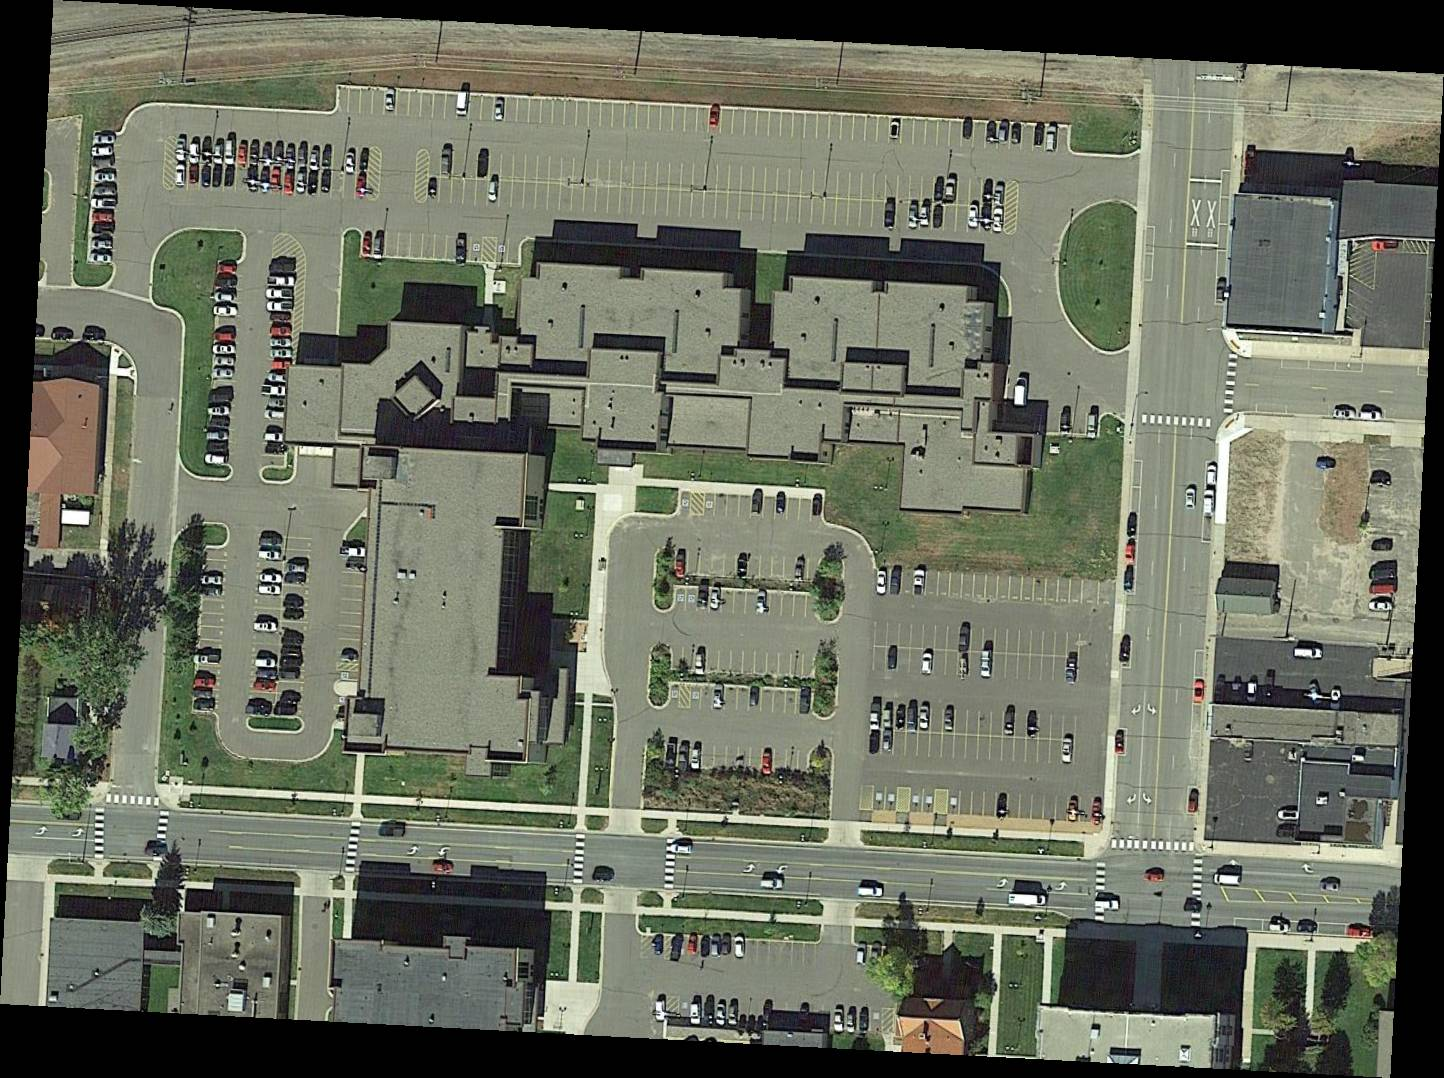large vehicle: (1008, 895, 1046, 907), (1014, 377, 1027, 407), (798, 687, 811, 715), (378, 825, 405, 838), (1295, 648, 1323, 659), (340, 546, 366, 557), (1215, 874, 1240, 885), (812, 494, 823, 517), (260, 385, 287, 395), (760, 878, 783, 889), (751, 491, 762, 514), (714, 684, 724, 709), (1087, 414, 1097, 439), (1060, 411, 1071, 433), (858, 887, 882, 897), (1095, 901, 1119, 912), (1046, 126, 1056, 152), (265, 410, 285, 421), (670, 844, 692, 854), (691, 748, 701, 769), (264, 433, 284, 443), (749, 687, 760, 705), (695, 652, 704, 674), (206, 407, 230, 414), (1248, 682, 1257, 702), (763, 753, 771, 775), (210, 394, 231, 402)
small vehicle: (980, 649, 993, 678), (913, 568, 925, 596), (958, 626, 971, 652), (1066, 658, 1077, 685), (890, 568, 902, 596), (441, 149, 452, 176), (248, 166, 259, 192), (267, 288, 293, 299), (921, 653, 933, 676), (992, 208, 1003, 233), (870, 703, 880, 730), (267, 301, 293, 311), (254, 621, 276, 632), (259, 572, 282, 583), (213, 306, 236, 317), (869, 731, 880, 754), (1127, 513, 1138, 536), (881, 729, 892, 752), (194, 699, 214, 711), (877, 570, 887, 594), (757, 589, 767, 614), (676, 553, 686, 577), (697, 584, 709, 605), (907, 708, 917, 733), (1062, 738, 1073, 763), (885, 203, 895, 228), (92, 146, 113, 157), (354, 176, 366, 197), (92, 199, 116, 209), (458, 92, 468, 115), (1369, 601, 1393, 611), (1092, 802, 1102, 825), (888, 645, 898, 669), (920, 705, 930, 729), (1123, 568, 1134, 592), (260, 168, 270, 194), (89, 253, 112, 263), (93, 239, 113, 250), (92, 224, 114, 234), (856, 944, 868, 965), (250, 143, 260, 165), (308, 172, 318, 195), (321, 170, 331, 192), (1334, 409, 1355, 420), (1125, 542, 1136, 563), (1268, 923, 1289, 934), (968, 205, 979, 228), (255, 658, 276, 668), (488, 180, 498, 202), (691, 1002, 701, 1024), (735, 936, 745, 958), (205, 454, 227, 464), (385, 89, 395, 111), (986, 120, 997, 142), (998, 121, 1008, 143), (737, 556, 747, 577), (1186, 488, 1196, 510), (195, 654, 219, 664), (225, 140, 234, 164), (945, 707, 954, 730), (710, 587, 719, 610), (1116, 730, 1125, 754), (909, 204, 918, 228), (93, 212, 113, 222), (95, 134, 116, 144), (275, 705, 296, 716), (260, 537, 281, 547), (834, 1010, 844, 1030), (716, 1004, 726, 1025), (202, 166, 212, 187), (214, 145, 224, 165), (1034, 126, 1044, 146), (1068, 801, 1078, 821), (1279, 810, 1299, 820), (1188, 792, 1198, 812), (1296, 923, 1316, 933), (1207, 464, 1217, 485), (176, 140, 186, 161), (288, 562, 306, 573), (374, 237, 383, 259), (213, 345, 236, 354), (1027, 715, 1036, 737), (1005, 712, 1014, 735), (946, 179, 955, 202), (889, 121, 900, 139), (1348, 929, 1370, 938), (994, 183, 1003, 206), (259, 550, 279, 561), (1360, 411, 1379, 421), (1145, 872, 1164, 882), (259, 585, 281, 594), (495, 100, 504, 121), (176, 164, 185, 186), (272, 168, 281, 189), (1195, 681, 1204, 702), (858, 1012, 869, 1030), (728, 1006, 738, 1024), (656, 1001, 665, 1021), (653, 935, 663, 956), (195, 678, 215, 687), (225, 166, 234, 187), (213, 166, 222, 187), (190, 144, 199, 164), (216, 292, 234, 302), (345, 153, 354, 173), (920, 206, 929, 226), (934, 181, 943, 202), (795, 559, 805, 577), (1321, 882, 1339, 892), (96, 187, 116, 196), (96, 173, 116, 182), (214, 369, 233, 378), (215, 357, 234, 366), (285, 173, 293, 195), (297, 172, 305, 194), (364, 236, 371, 257), (323, 151, 332, 169), (239, 145, 248, 163), (219, 264, 237, 273), (1011, 125, 1020, 143), (723, 934, 730, 955), (311, 149, 319, 170), (934, 206, 942, 226), (190, 166, 199, 183), (847, 1013, 855, 1033), (689, 935, 697, 955), (298, 148, 306, 166), (215, 333, 233, 341), (896, 711, 904, 729), (885, 710, 891, 727)
